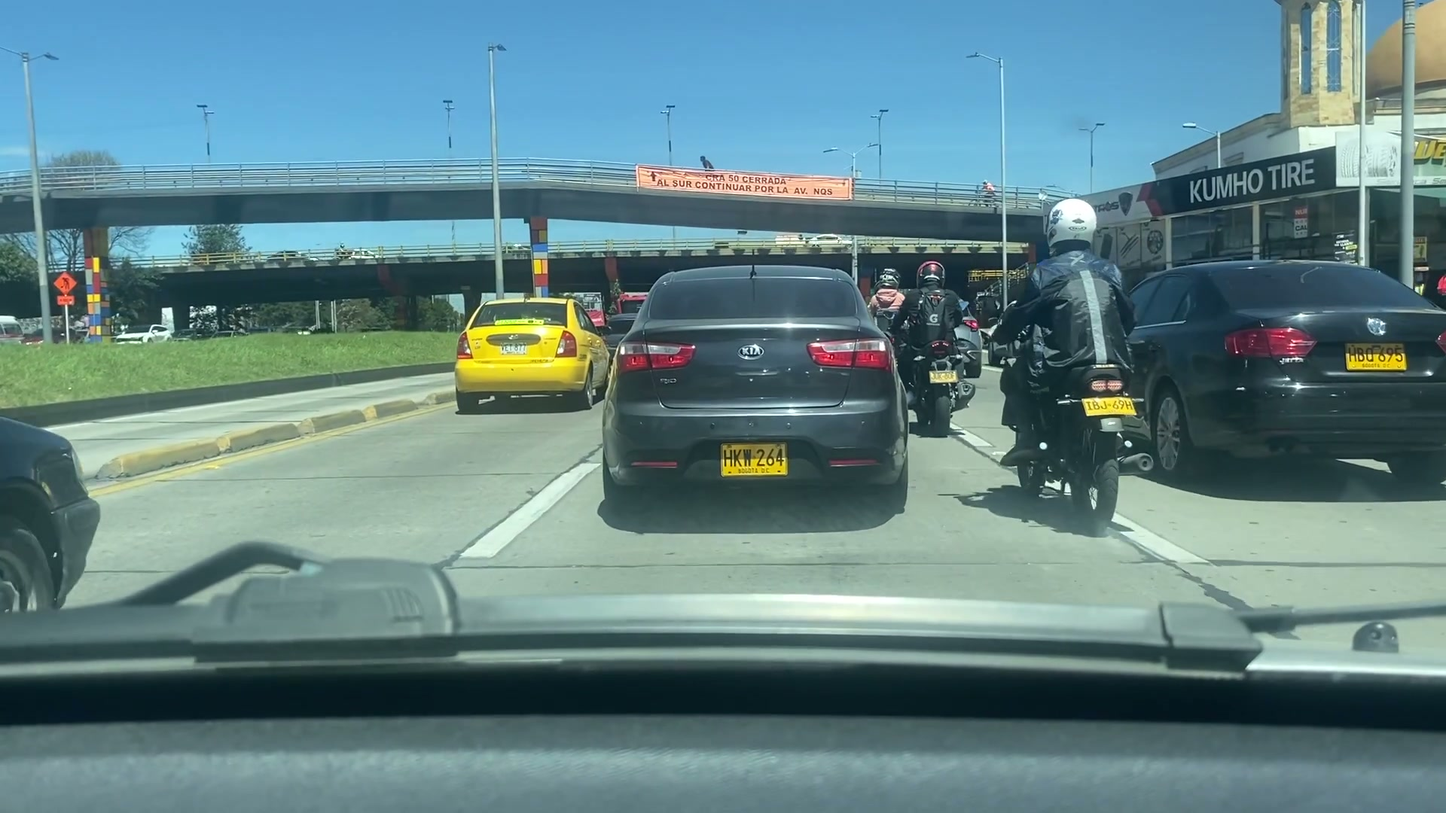car: (1112, 266, 1445, 489), (608, 265, 908, 511), (0, 416, 101, 611), (454, 296, 609, 412), (600, 313, 644, 363)
motorcycle: (989, 332, 1154, 533), (902, 341, 978, 438)
person: (1001, 199, 1138, 471), (898, 261, 964, 398)
